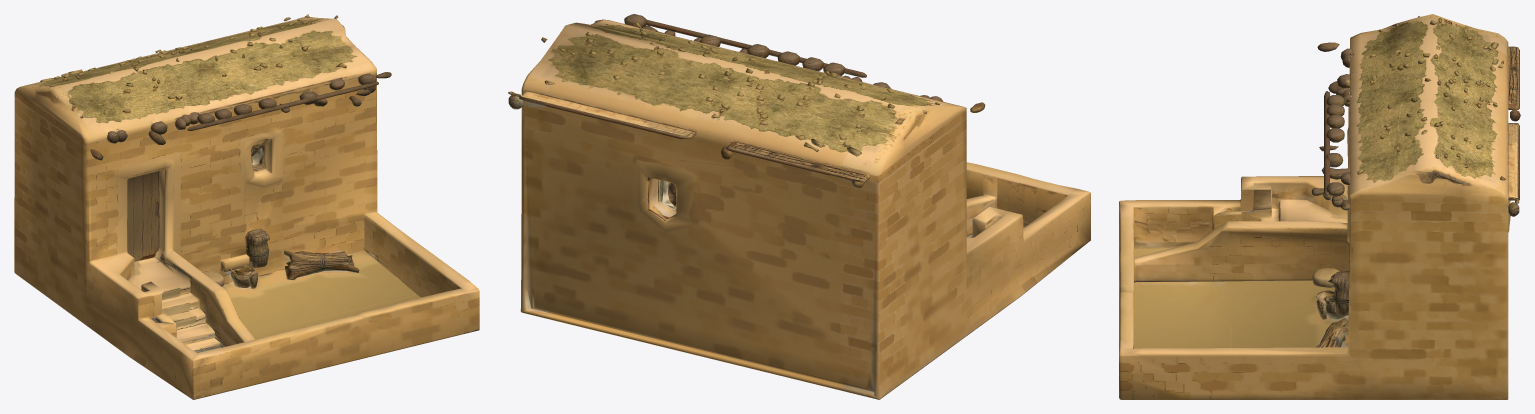
The model's file is o26_toprak_damli_kerpic_ev.glb.
3 views of the same model, side by side, from view 1: azimuth 30°, elevation 25°; view 2: azimuth 150°, elevation 25°; view 3: azimuth 270°, elevation 25° (orthographic). The views are drawn at different scales.
Bounding box in the file's own units: 1.85 × 1.24 × 1.89.
1 material, 1 textured.
